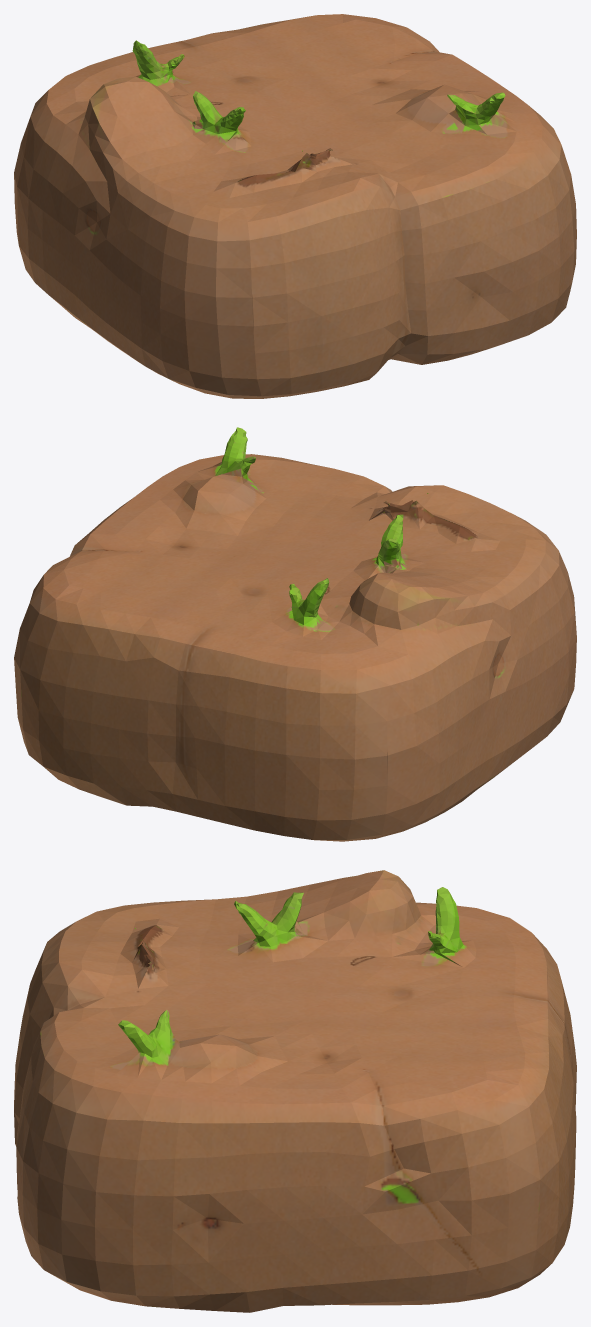
The model's file is Stage_02_Ground_SparseGrass_000.fbx.
3 renders of one model, top to bottom at view 1: azimuth 30°, elevation 25°; view 2: azimuth 150°, elevation 25°; view 3: azimuth 270°, elevation 25°, orthographic. The views are drawn at different scales.
Parts seen in each view (by area): view 1: Stage_02_Ground_SparseGrass_000; view 2: Stage_02_Ground_SparseGrass_000; view 3: Stage_02_Ground_SparseGrass_000.
Boxes of the visible parts, bbox=[...] form: Stage_02_Ground_SparseGrass_000: bbox=[14, 14, 576, 398]; Stage_02_Ground_SparseGrass_000: bbox=[14, 427, 576, 841]; Stage_02_Ground_SparseGrass_000: bbox=[14, 870, 576, 1312].
Size of the model in its own units: 98.01 by 50.94 by 99.78.
